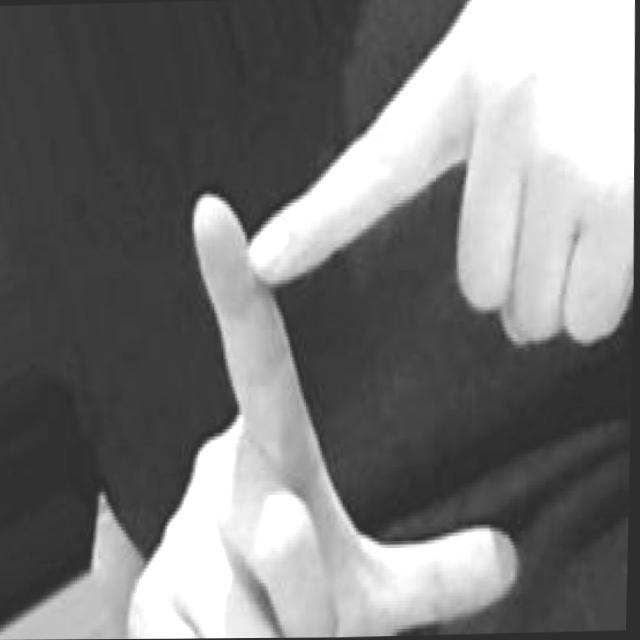J: (114, 0, 640, 639)
